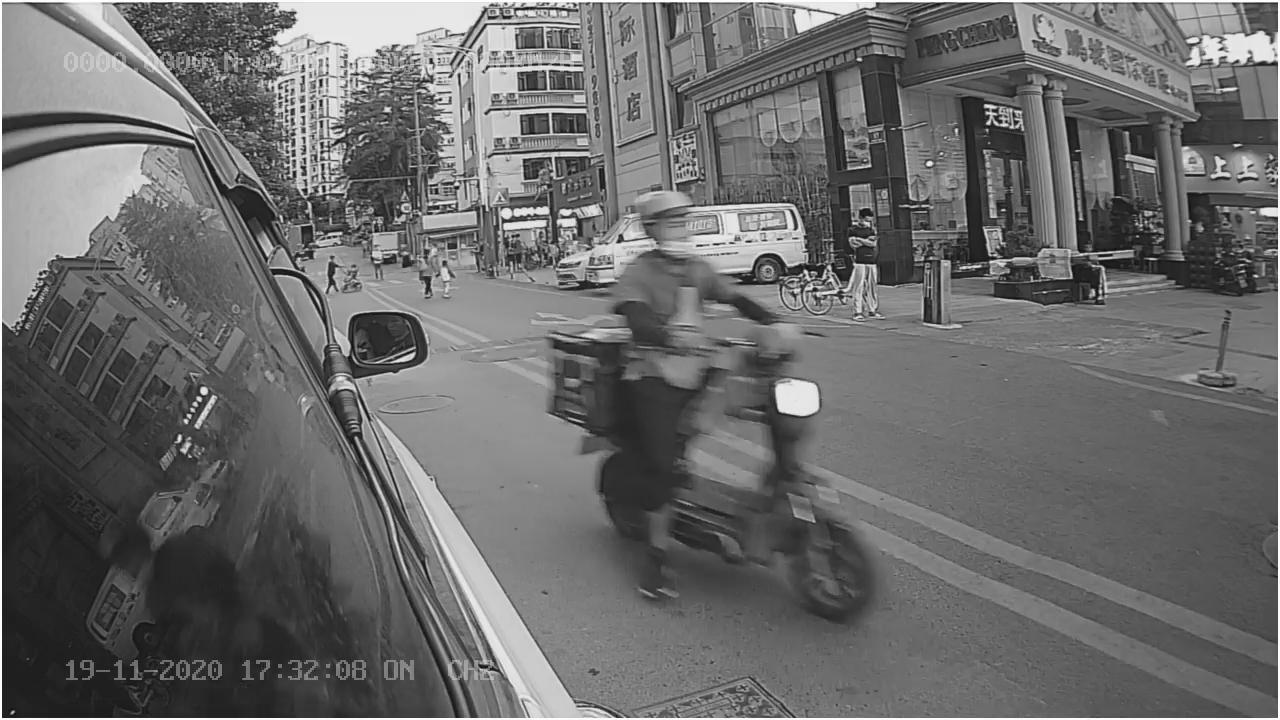person: (611, 189, 747, 338)
